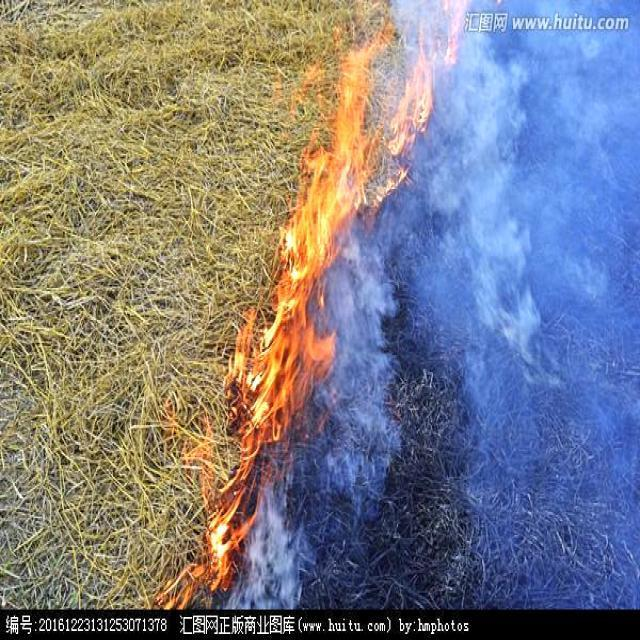Fire: (198, 0, 434, 590)
Smoke: (362, 0, 640, 591)
